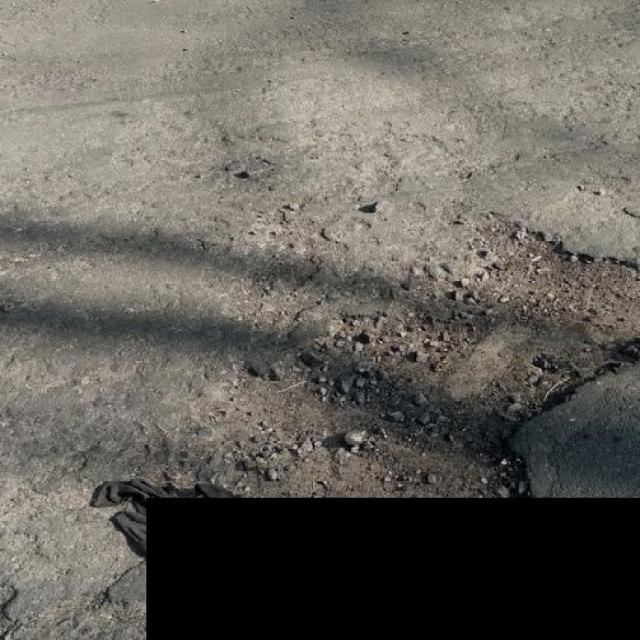road-pothole: (163, 207, 639, 500)
